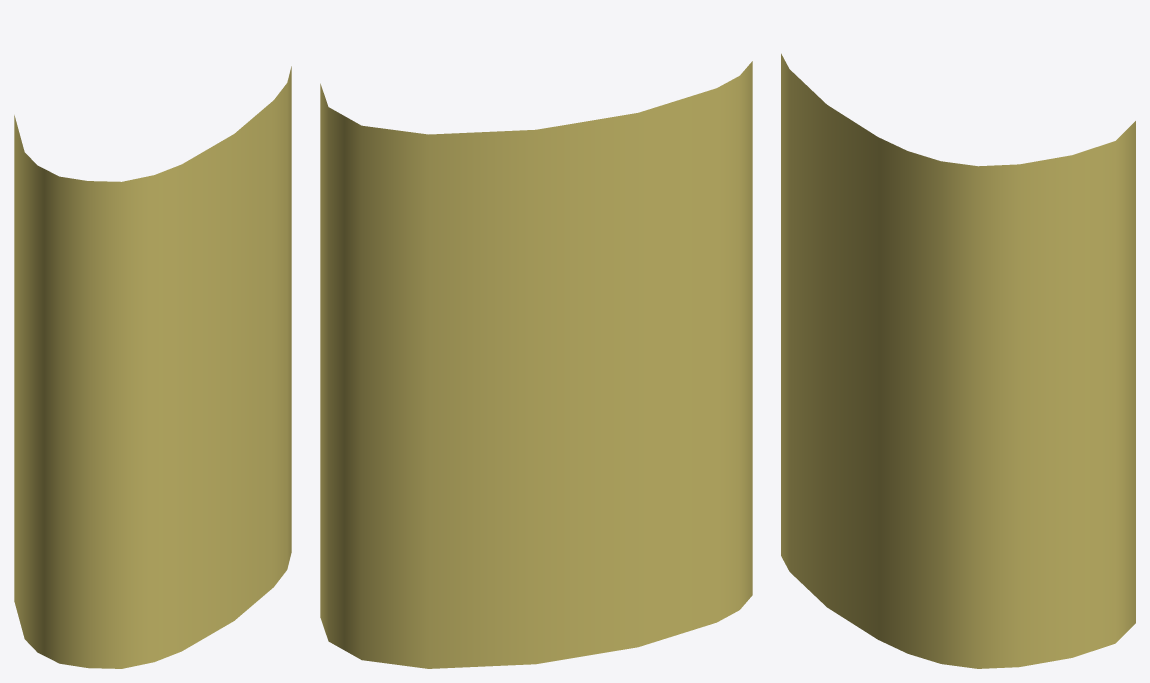
The model's file is lateral-corticospinal-tract.glb.
The picture shows the model from 3 angles, left to right: view 1: azimuth 30°, elevation 25°; view 2: azimuth 150°, elevation 25°; view 3: azimuth 270°, elevation 25°; orthographic projection. The views are drawn at different scales.
Visible parts, largest first — view 1: Lateral corticospinal tract; view 2: Lateral corticospinal tract; view 3: Lateral corticospinal tract.
Boxes of the visible parts, left/top/right/bottom form: Lateral corticospinal tract: left=14, top=66, right=291, bottom=668; Lateral corticospinal tract: left=320, top=61, right=752, bottom=668; Lateral corticospinal tract: left=781, top=53, right=1135, bottom=668.
Size of the model in its own units: 0.00325 by 0.005 by 0.0032.
